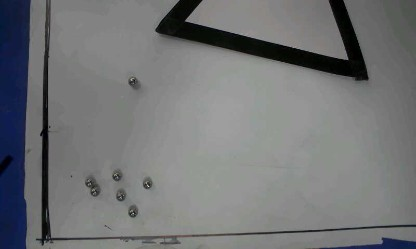ironball: (127, 204, 137, 217), (115, 189, 125, 201), (111, 170, 121, 181), (127, 76, 137, 87), (142, 177, 151, 189), (84, 177, 94, 187), (89, 186, 99, 196)
